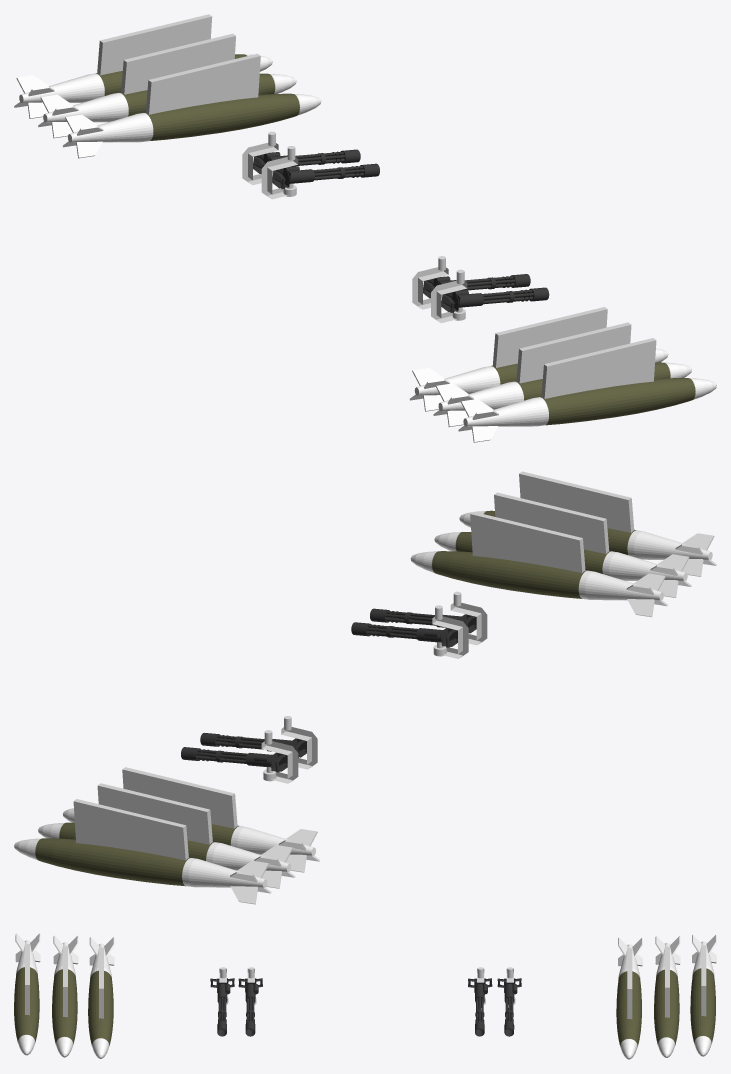
The model's file is 182RGweapon.glb.
3 views of the same model, one above another, from view 1: azimuth 30°, elevation 25°; view 2: azimuth 150°, elevation 25°; view 3: azimuth 270°, elevation 25° (orthographic). The views are drawn at different scales.
Visible parts, largest first — view 1: 円柱.008, 円柱.010, 立方体.006, 立方体.001, 円柱.005, 立方体.002, 立方体.003, 円柱.009, 立方体.005, 立方体.004, 円柱.006, 円柱.007 (+8 smaller); view 2: 円柱.006, 円柱.007, 立方体.003, 立方体.004, 立方体.006, 円柱.009, 立方体.005, 円柱.010, 立方体.001, 立方体.002, 円柱.005, 円柱.008 (+8 smaller); view 3: 円柱.006, 円柱.008, 円柱.009, 円柱.005, 円柱.007, 円柱.010, 円柱.011, 円柱.001, 円柱.003, 円柱.013, 立方体.003, 立方体.001 (+4 smaller).
Boxes of the visible parts, x1=… form: 円柱.008: x1=63, y1=93, x2=321, y2=158; 円柱.010: x1=458, y1=378, x2=716, y2=442; 立方体.006: x1=541, y1=338, x2=656, y2=398; 立方体.001: x1=145, y1=53, x2=260, y2=114; 円柱.005: x1=38, y1=73, x2=296, y2=138; 立方体.002: x1=121, y1=33, x2=235, y2=94; 立方体.003: x1=97, y1=14, x2=212, y2=75; 円柱.009: x1=433, y1=362, x2=691, y2=426; 立方体.005: x1=516, y1=322, x2=631, y2=383; 立方体.004: x1=492, y1=307, x2=607, y2=367; 円柱.006: x1=14, y1=54, x2=272, y2=118; 円柱.007: x1=409, y1=348, x2=668, y2=411; 円柱.006: x1=14, y1=838, x2=271, y2=904; 円柱.007: x1=410, y1=551, x2=667, y2=617; 立方体.003: x1=73, y1=799, x2=188, y2=860; 立方体.004: x1=470, y1=511, x2=585, y2=572; 立方体.006: x1=519, y1=471, x2=634, y2=532; 円柱.009: x1=434, y1=532, x2=691, y2=597; 立方体.005: x1=494, y1=492, x2=609, y2=553; 円柱.010: x1=459, y1=510, x2=716, y2=576; 立方体.001: x1=122, y1=767, x2=237, y2=828; 立方体.002: x1=97, y1=783, x2=212, y2=844; 円柱.005: x1=38, y1=822, x2=295, y2=888; 円柱.008: x1=63, y1=808, x2=320, y2=872; 円柱.006: x1=690, y1=935, x2=716, y2=1056; 円柱.008: x1=616, y1=938, x2=642, y2=1059; 円柱.009: x1=52, y1=935, x2=78, y2=1057; 円柱.005: x1=654, y1=936, x2=680, y2=1057; 円柱.007: x1=88, y1=937, x2=114, y2=1058; 円柱.010: x1=14, y1=933, x2=40, y2=1055; 円柱.011: x1=238, y1=978, x2=262, y2=1036; 円柱.001: x1=497, y1=978, x2=521, y2=1036; 円柱.003: x1=210, y1=978, x2=234, y2=1036; 円柱.013: x1=468, y1=978, x2=492, y2=1036; 立方体.003: x1=701, y1=945, x2=706, y2=1016; 立方体.001: x1=627, y1=948, x2=632, y2=1019.
Size of the model in its own units: 2.41 by 0.6853 by 7.67.
5 materials, 1 textured.
